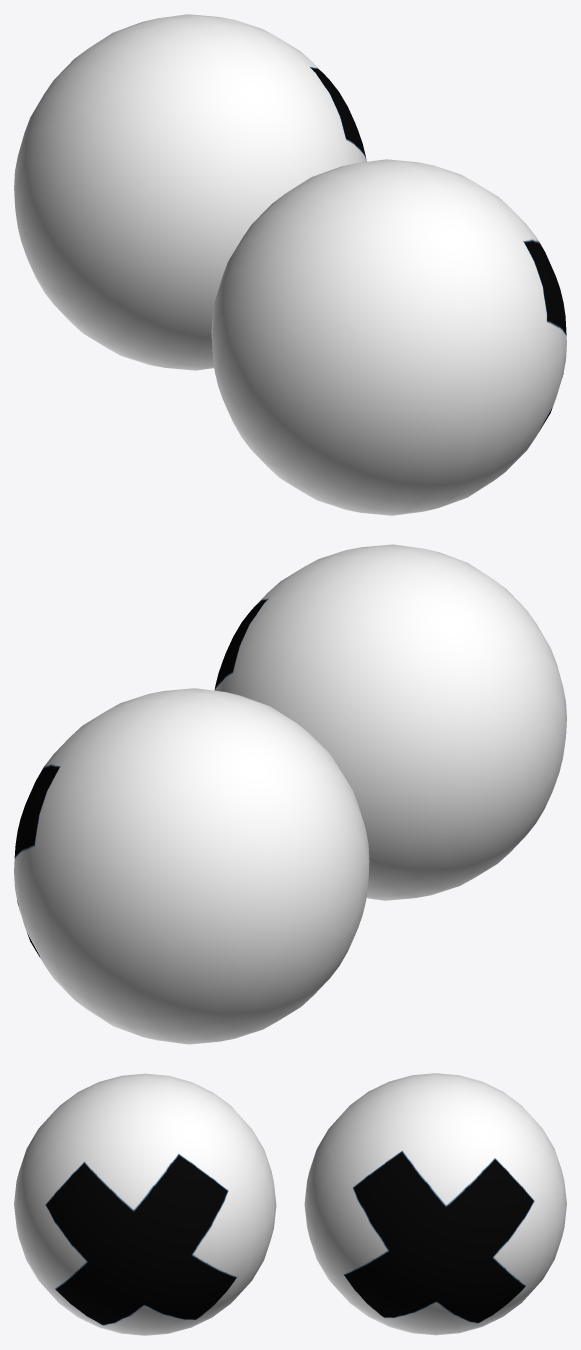
Rendered from eyeX.fbx.
3 renders of one model, top to bottom at view 1: azimuth 30°, elevation 25°; view 2: azimuth 150°, elevation 25°; view 3: azimuth 270°, elevation 25°, orthographic. The views are drawn at different scales.
Parts seen in each view (by area): view 1: 球.002, 球.008; view 2: 球.008, 球.002; view 3: 球.002, 球.008.
Boxes of the visible parts, x1,y1,x2,y2 form: 球.002: (211, 159, 566, 515); 球.008: (14, 14, 366, 370); 球.008: (14, 688, 369, 1044); 球.002: (214, 544, 566, 900); 球.002: (14, 1073, 276, 1335); 球.008: (304, 1073, 566, 1335).
Bounding box in the file's own units: 75.45 × 75.61 × 159.
1 material, 1 textured.
